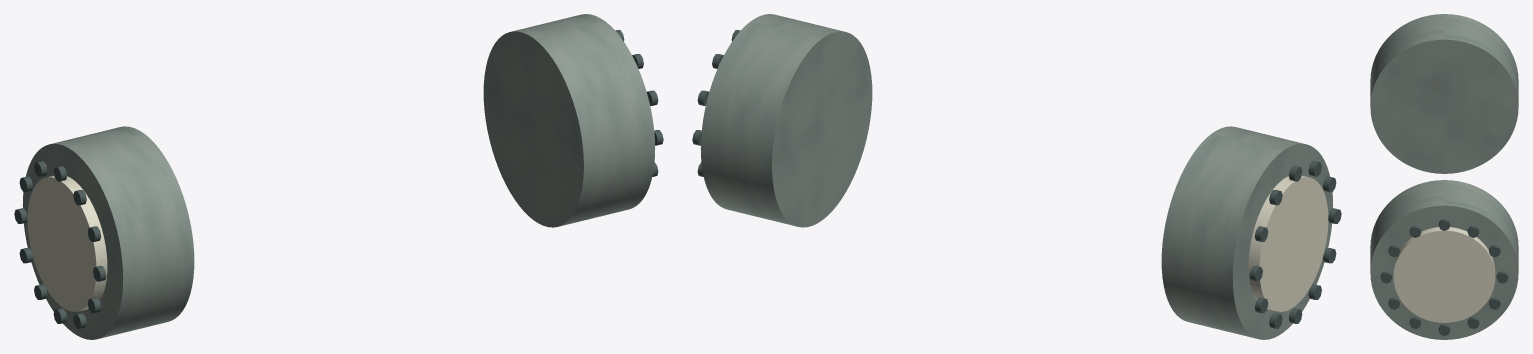
File: Elevation_Bearings.glb
The picture shows the model from 3 angles, left to right: view 1: azimuth 30°, elevation 25°; view 2: azimuth 150°, elevation 25°; view 3: azimuth 270°, elevation 25°; orthographic projection. The views are drawn at different scales.
Visible parts, largest first — view 1: Elevation_Bearings; view 2: Elevation_Bearings; view 3: Elevation_Bearings.
Part boxes in pixels (box(x1,y1,x2,y2)): Elevation_Bearings: box(14, 14, 663, 339); Elevation_Bearings: box(692, 14, 1341, 339); Elevation_Bearings: box(1370, 14, 1518, 339).
Bounding box in the file's own units: 5.38 × 1.66 × 1.66.
Materials: 3 (1 with a texture image).
